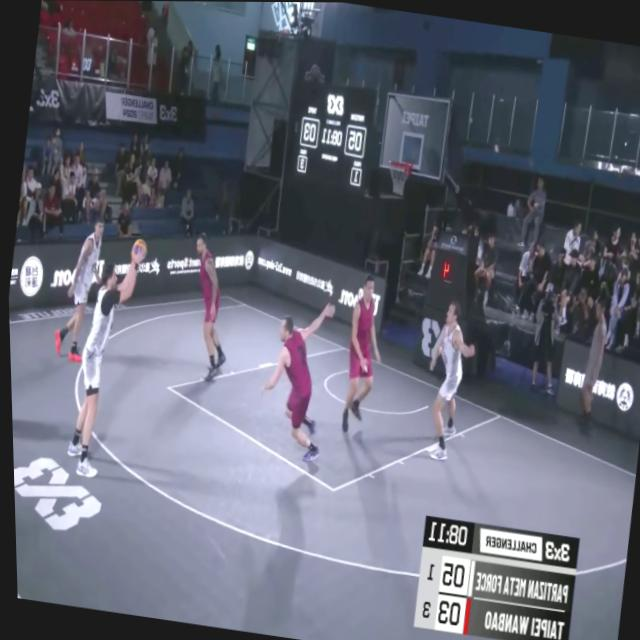ball: (126, 233, 150, 270)
hoop: (383, 154, 413, 200)
player: (52, 228, 157, 485), (246, 288, 341, 467), (411, 294, 482, 468), (170, 228, 243, 387), (325, 269, 393, 434), (44, 212, 114, 365)
